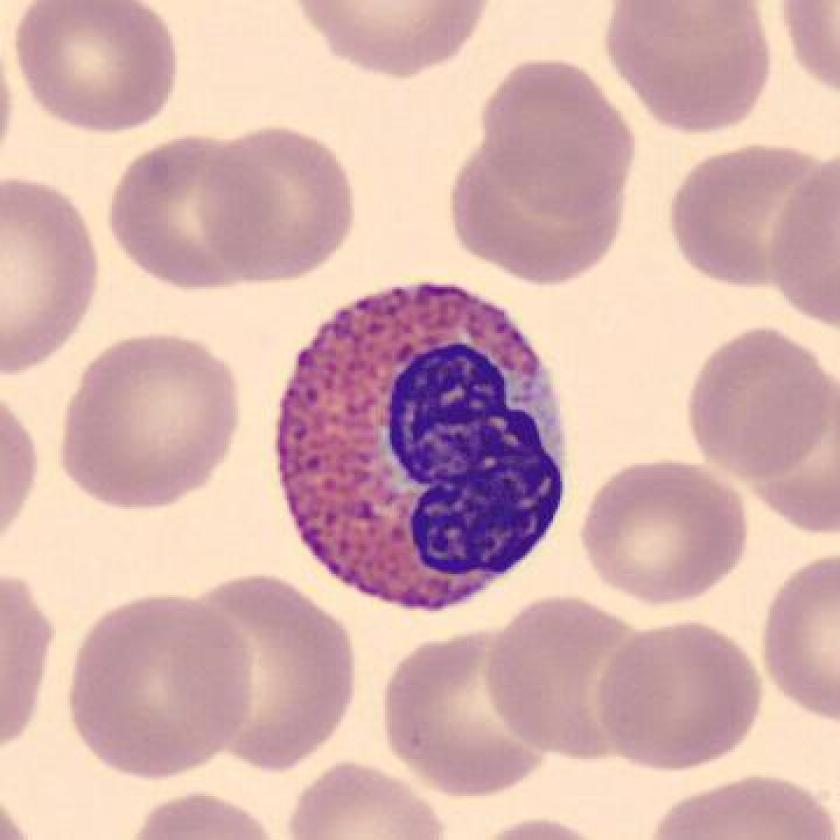eosinophil: (262, 265, 580, 626)
